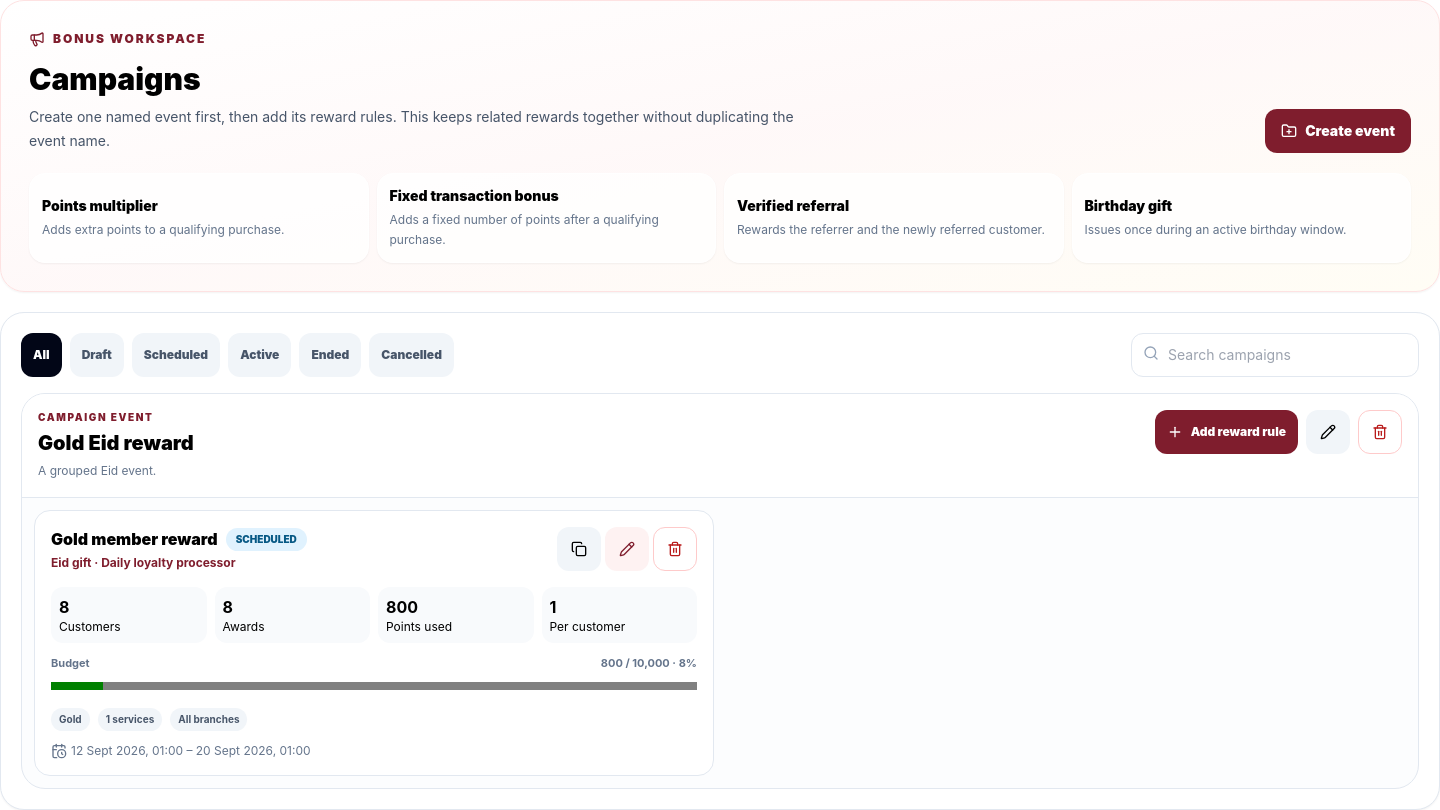
Test: LoyaltyCampaignManager › duplicates an existing campaign into a new draft
Click the button named "Duplicate Gold member reward" at (579, 549), box [557,527,601,571]
(page scrolled)
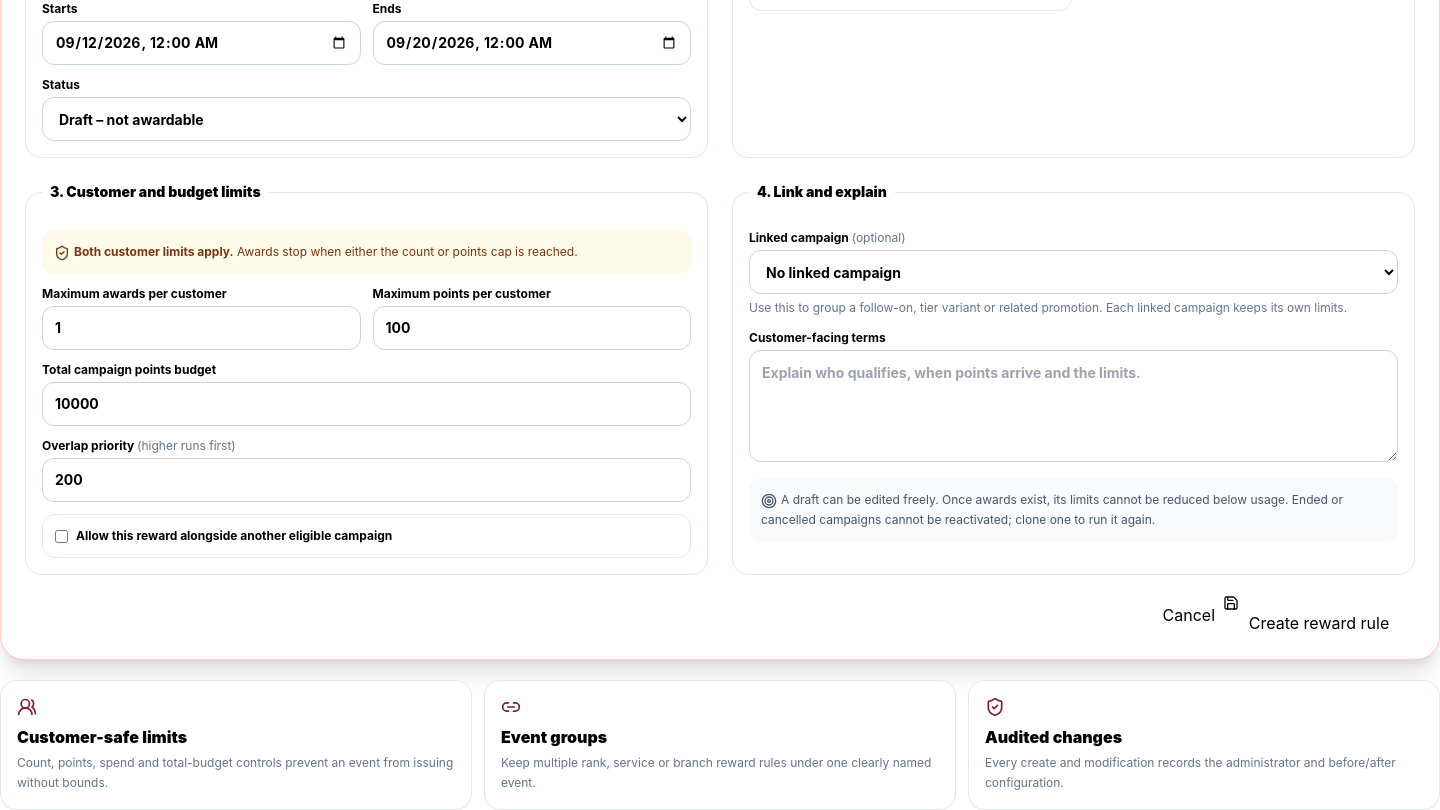
Check: the button "Create reward rule" is shown, box [1223,595,1415,635]
